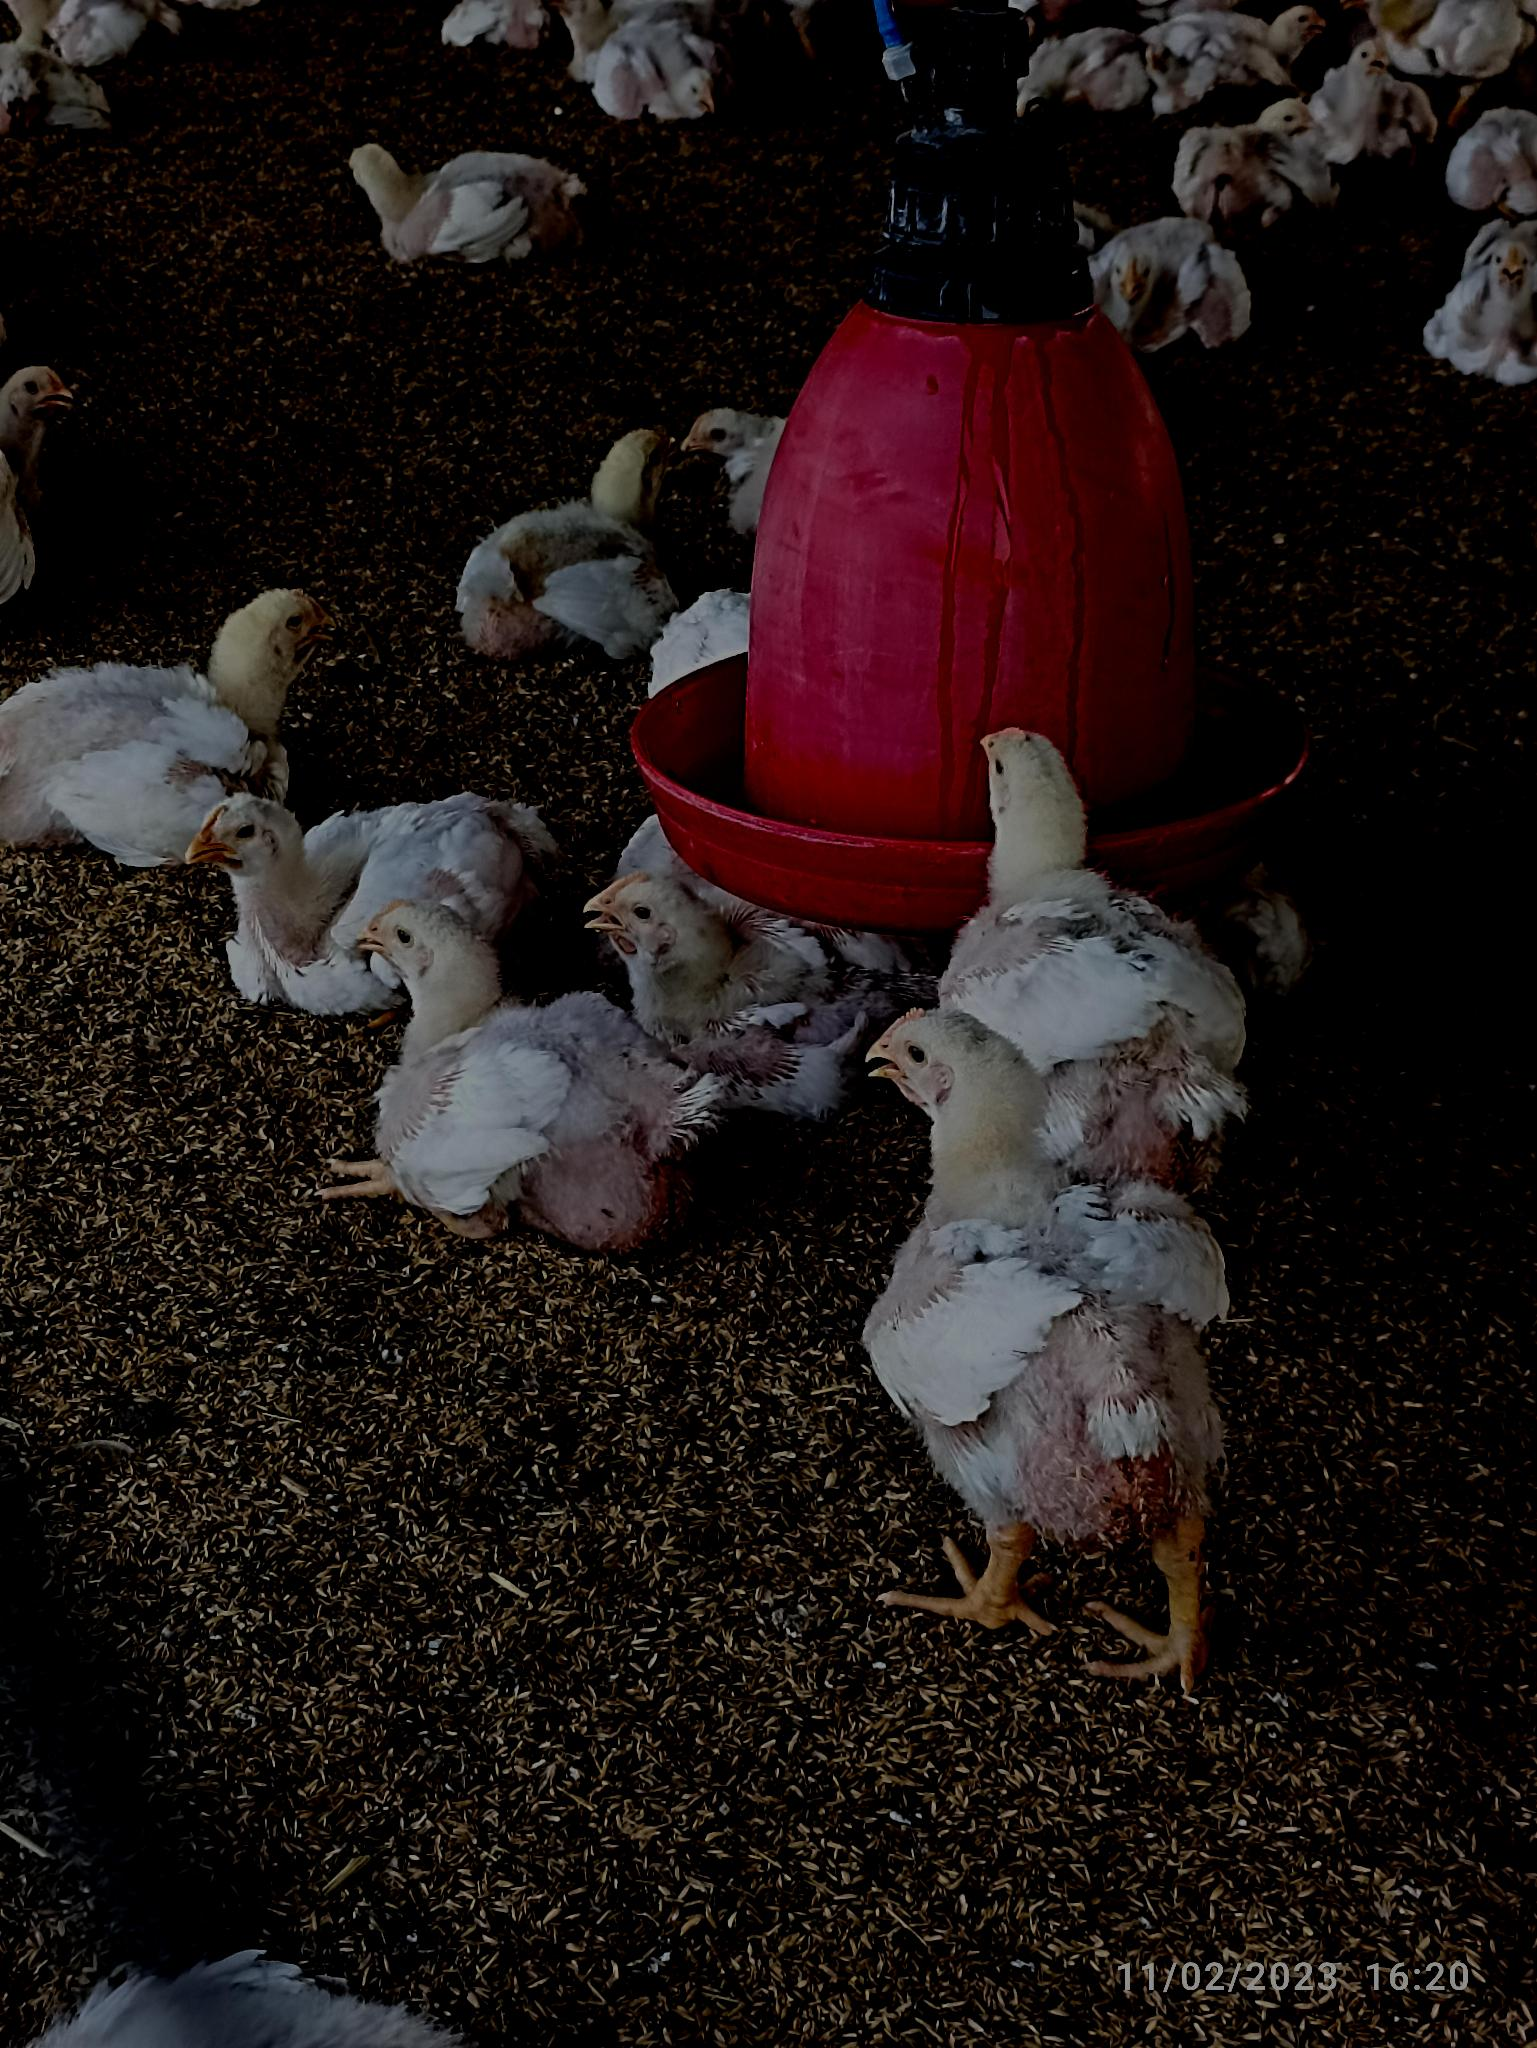Pollos: (861, 997, 1217, 1527), (357, 897, 618, 1185), (2, 591, 333, 813), (575, 875, 882, 1093), (454, 426, 701, 654), (344, 139, 588, 273), (1090, 229, 1267, 352), (1188, 87, 1330, 211)
